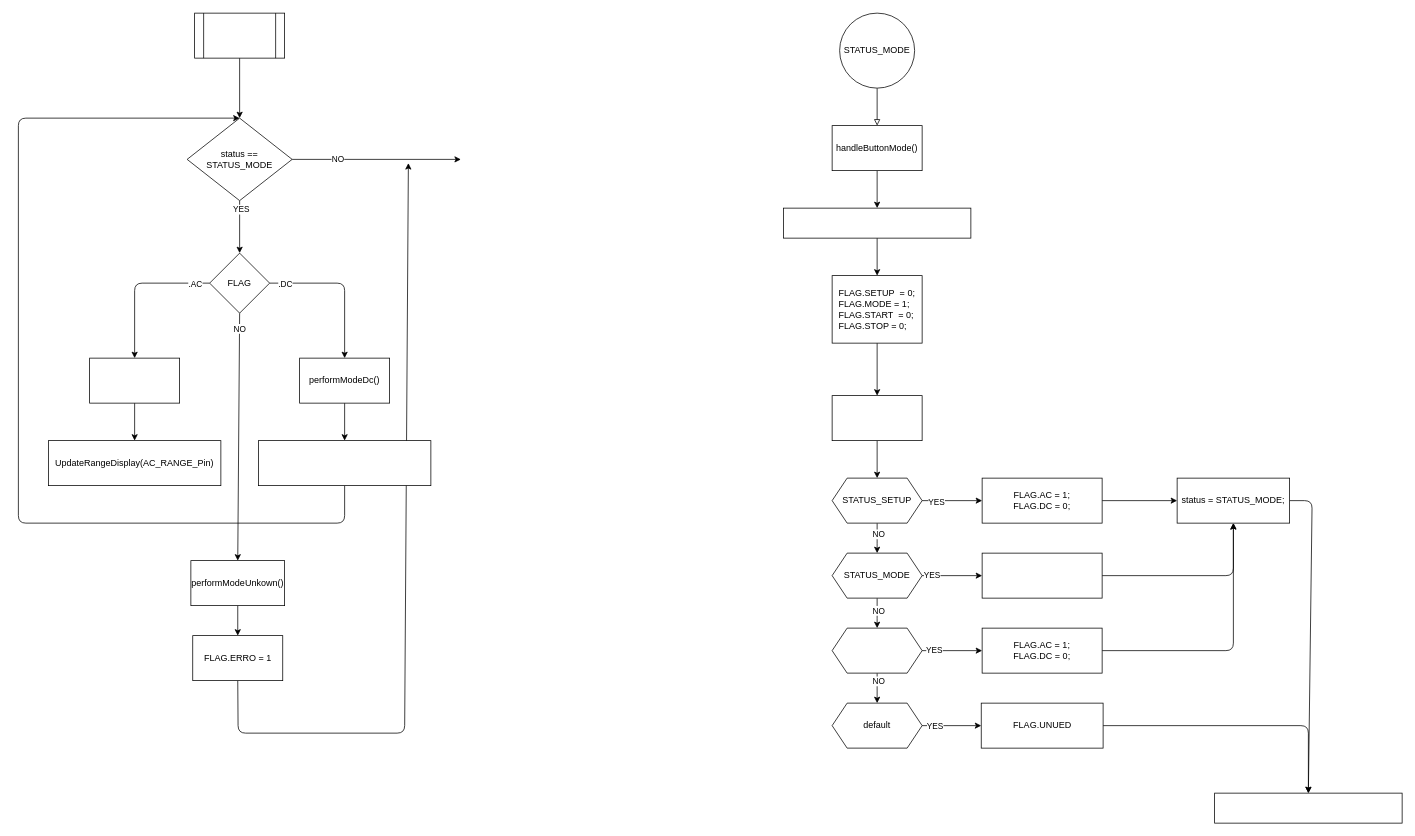
This 1415x836 diagram has some shape labels left out. Here are the shapes that lost their labels. From the top down, the centre of each, then its label:
[239,35]: handleMode()
[877,222]: HAL_NVIC_DisableIRQ(EXTI9_5_IRQn)
[134,380]: performModeAc()
[876,418]: status
[344,463]: UpdateRangeDisplay(DC_RANGE_Pin)
[1041,575]: FLAG.AC = !FLAG.AC; FLAG.DC = !FLAG.DC;
[876,650]: STATUS_START
[1308,807]: HAL_NVIC_EnableIRQ(EXTI9_5_IRQn);
